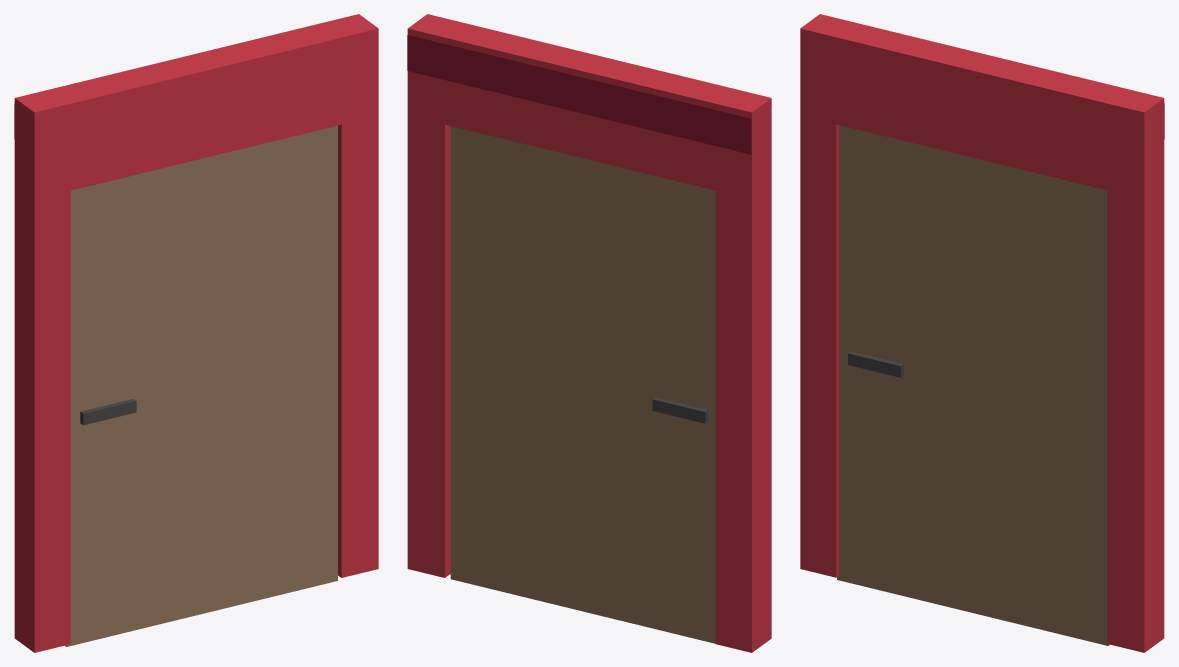
Rendered from fasade-door.fbx.
3 views of the same model, side by side, from view 1: azimuth 30°, elevation 25°; view 2: azimuth 150°, elevation 25°; view 3: azimuth 330°, elevation 25° (orthographic).
Visible parts, largest first — view 1: Door, fasade door; view 2: Door, fasade door; view 3: Door, fasade door.
Boxes of the visible parts, x1,y1,x2,y2 form: Door: (65,125,337,646); fasade door: (14,14,378,652); Door: (450,126,715,643); fasade door: (407,14,771,652); Door: (837,125,1109,645); fasade door: (800,14,1164,652).
Size of the model in its own units: 2 by 3.02 by 0.2106.
